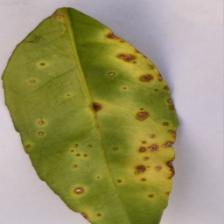canker: (76, 3, 224, 222)
